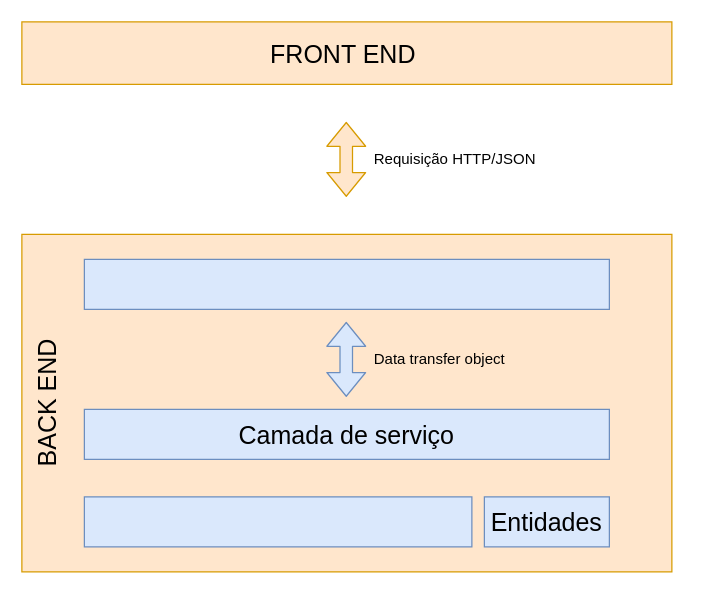
Image size: 706x594. Some labels were removed from this diagram. The shapes that lost their labels are listed below. From the top down, each one's centre as x and y in pixels, then its label:
At point 346,283: "Controladores REST".
At point 277,521: "Camada de acesso de dados".
